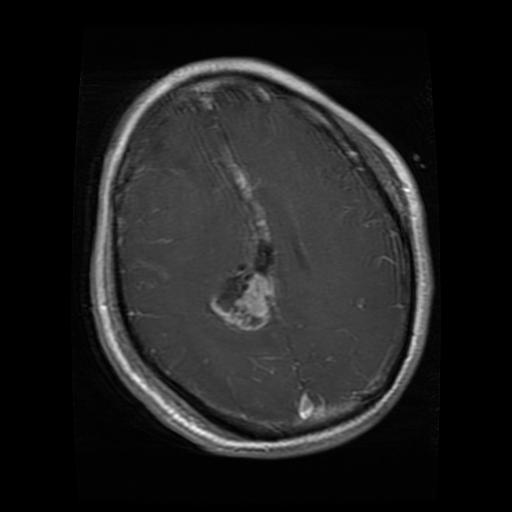Gliomia_tumour: (210, 238, 280, 331)
